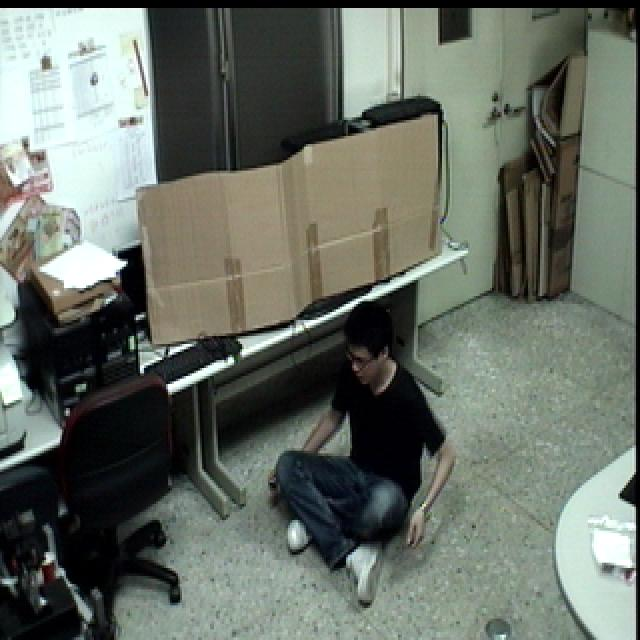sit: (264, 290, 460, 612)
